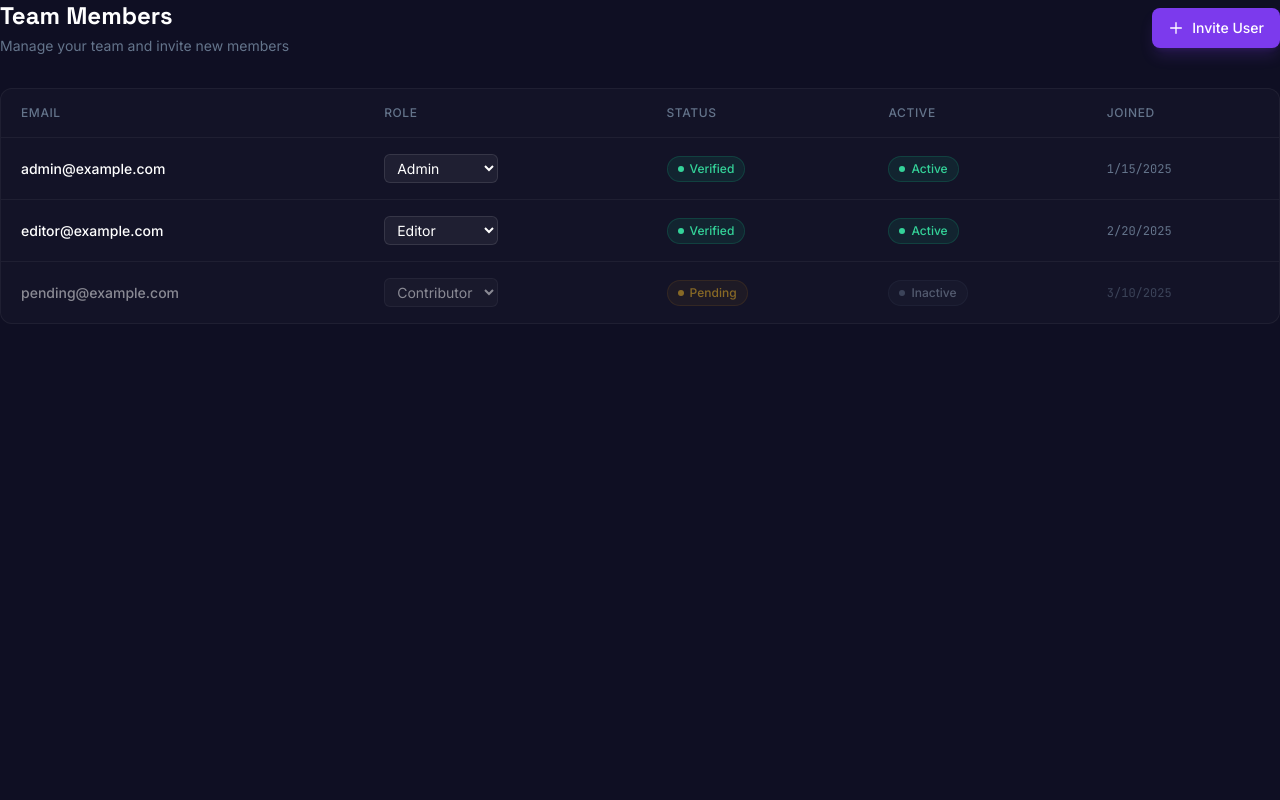
AdminUsersView › shows error on invite failure
The width and height of the screenshot is (1280, 800).
Click the button "Invite User" at (1216, 28), box [1152,8,1279,48]
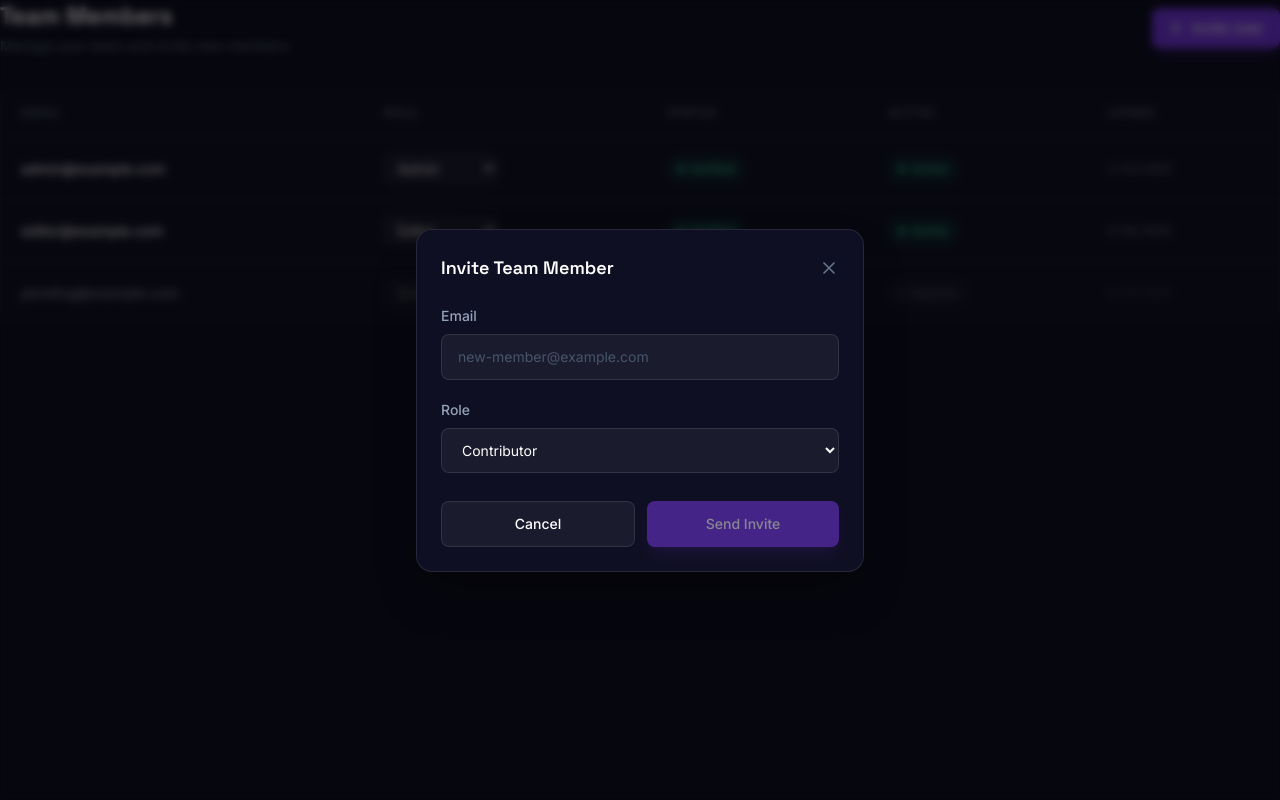
Type "existing@example.com" into the field with placeholder "new-member@example.com" at (640, 356), box [441,334,839,380]
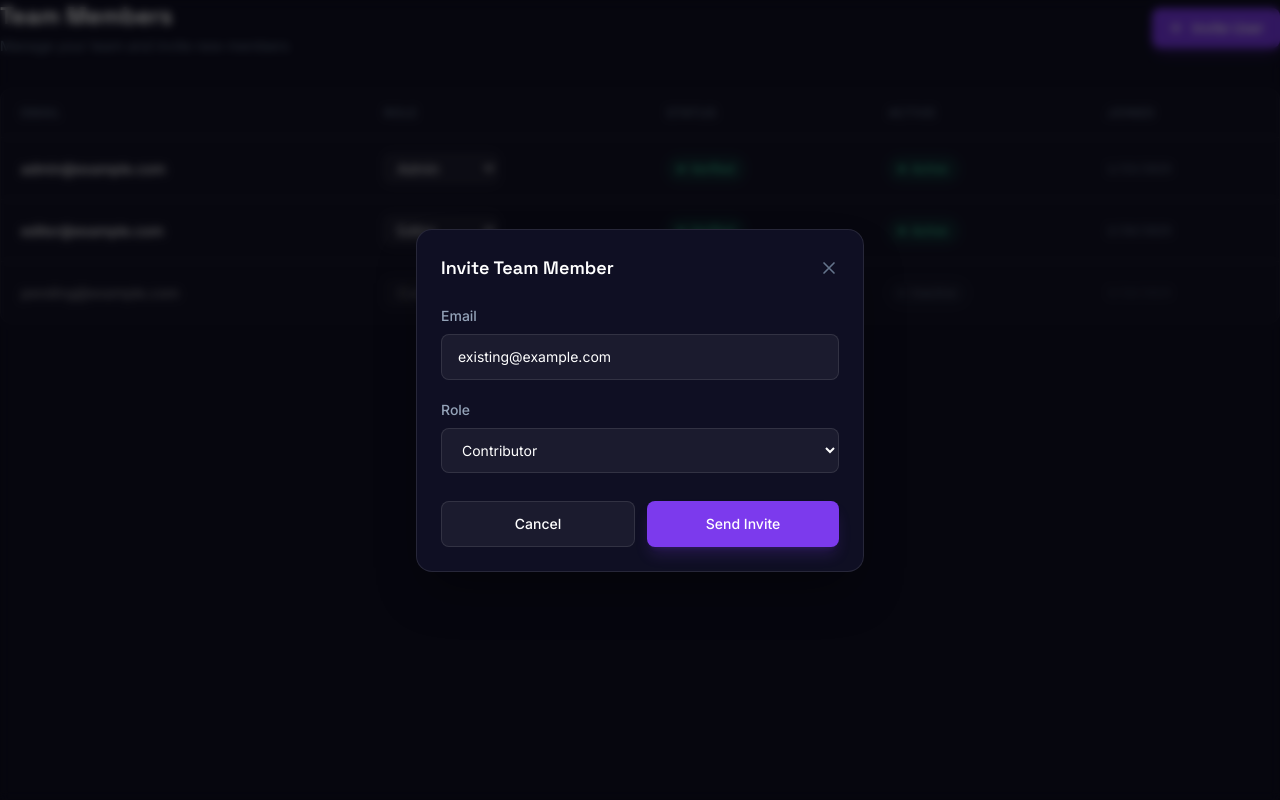
Submit the form, box [441,306,839,546]
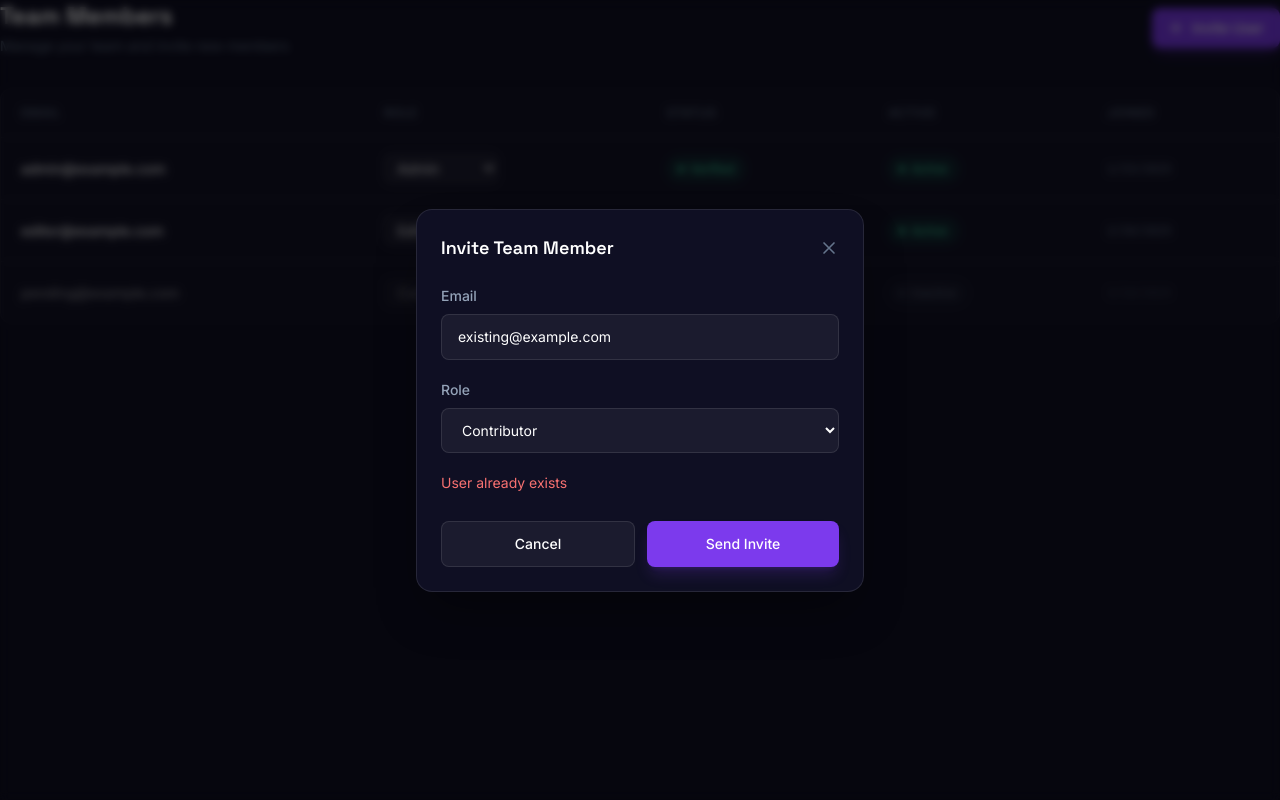
Now the text "User already exists" is shown, box [441,474,567,490]
